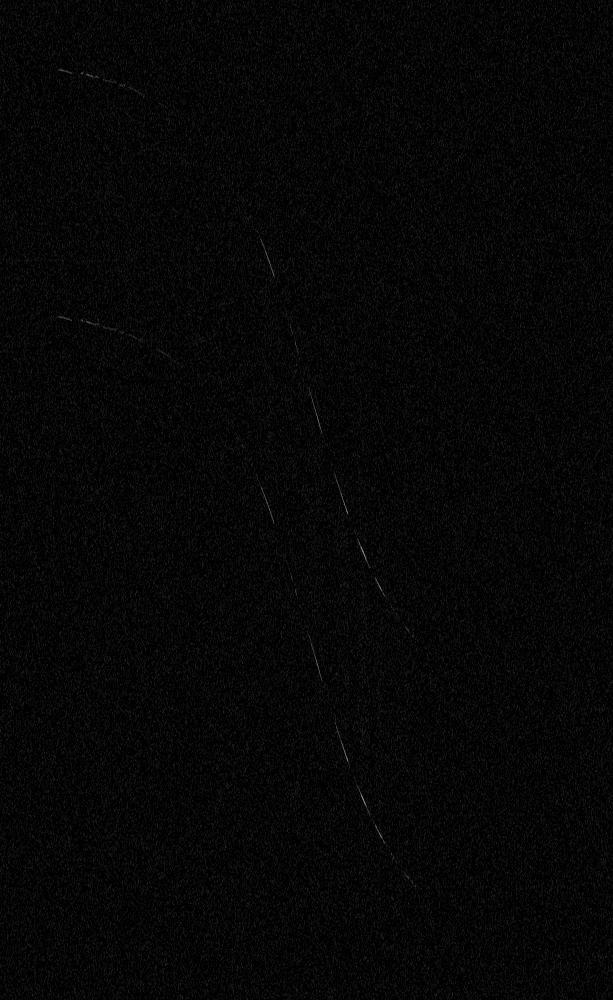signal: (0, 0, 612, 999)
